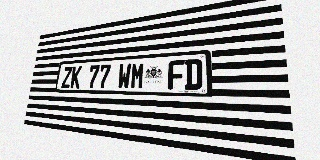7: (98, 64, 111, 89), (87, 65, 100, 89)
D: (185, 59, 202, 90)
F: (168, 60, 184, 90)
K: (70, 66, 82, 88)
M: (130, 62, 145, 89)
W: (117, 63, 131, 89)
Z: (61, 67, 73, 88)
